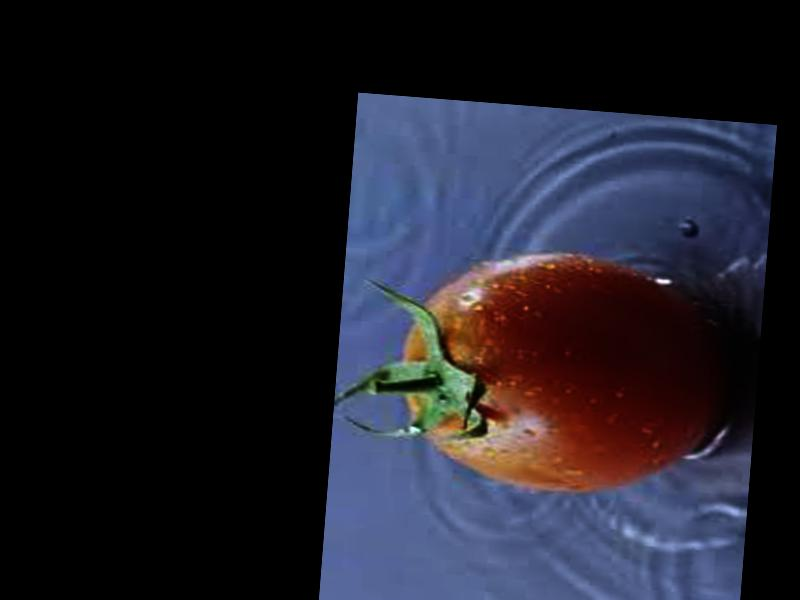Tomato: (395, 245, 737, 502)
